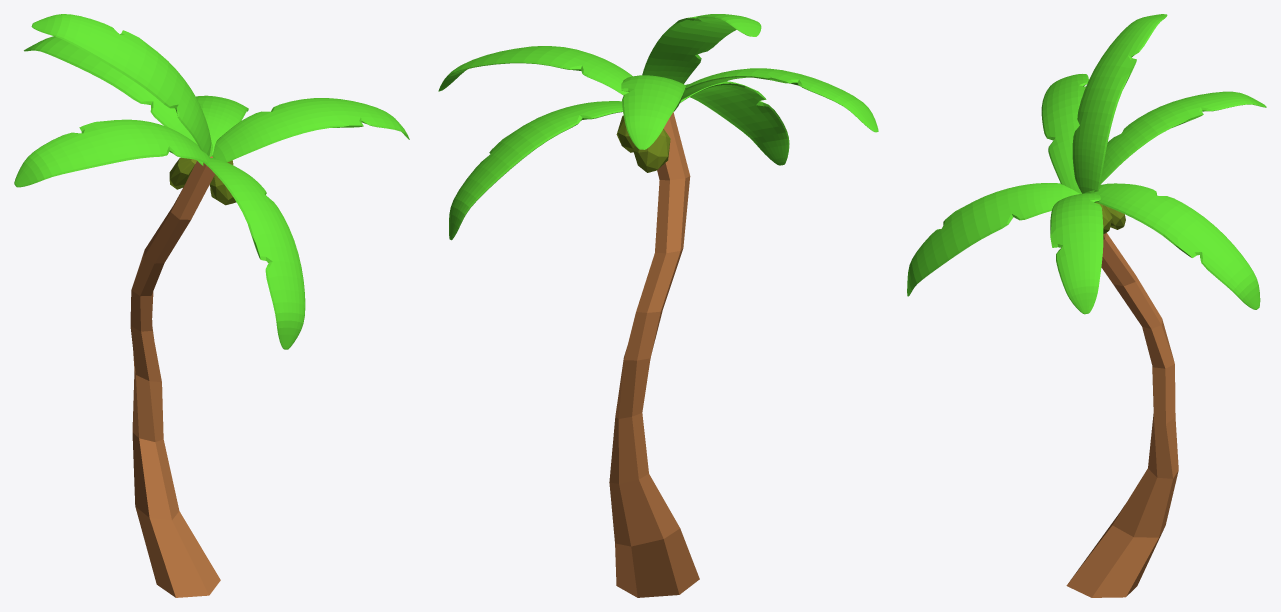
Rendered from tree 2.glb.
3 renders of one model, left to right at view 1: azimuth 30°, elevation 25°; view 2: azimuth 150°, elevation 25°; view 3: azimuth 270°, elevation 25°, orthographic. The views are drawn at different scales.
Parts seen in each view (by area): view 1: leaves.001; view 2: leaves.001; view 3: leaves.001.
Boxes of the visible parts, x1,y1,x2,y2 form: leaves.001: (14, 14, 409, 597); leaves.001: (438, 14, 878, 597); leaves.001: (907, 14, 1266, 597).
Bounding box in the file's own units: 17.99 × 24.47 × 15.26.
